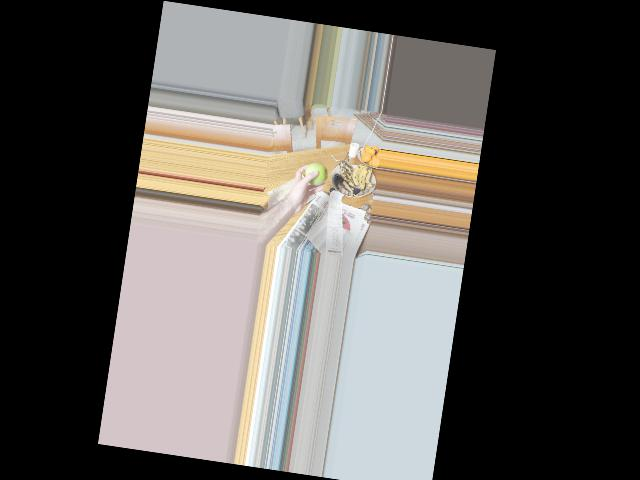apple: (303, 158, 329, 188)
